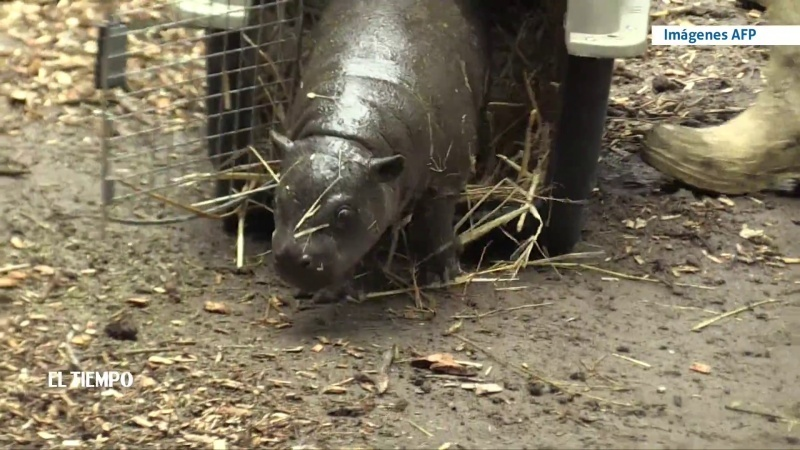hipopotamo: (262, 1, 488, 317)
